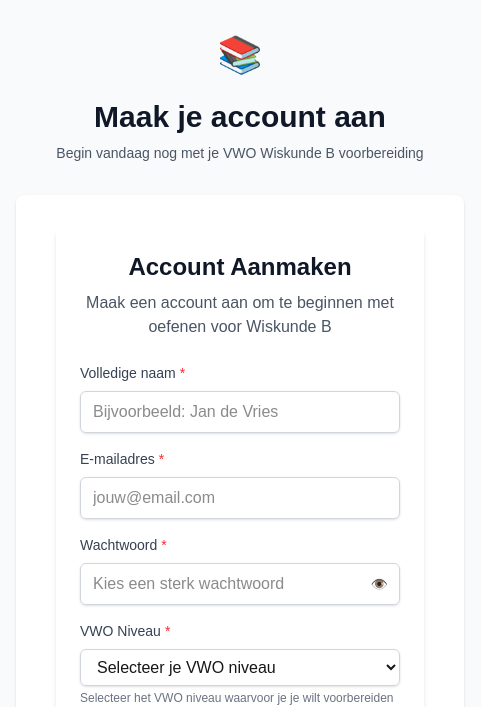
Test: RegisterPage › shows success message after successful registration
# Fill out the form
Type "Test User" into the field labelled "Volledige naam*" at [240, 412], box [80, 391, 400, 433]
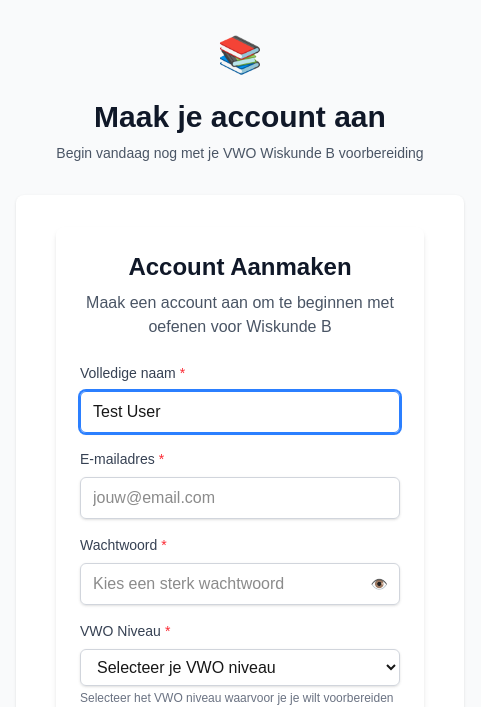
Type "test@example.com" into the field labelled "E-mailadres*" at [240, 498], box [80, 477, 400, 519]
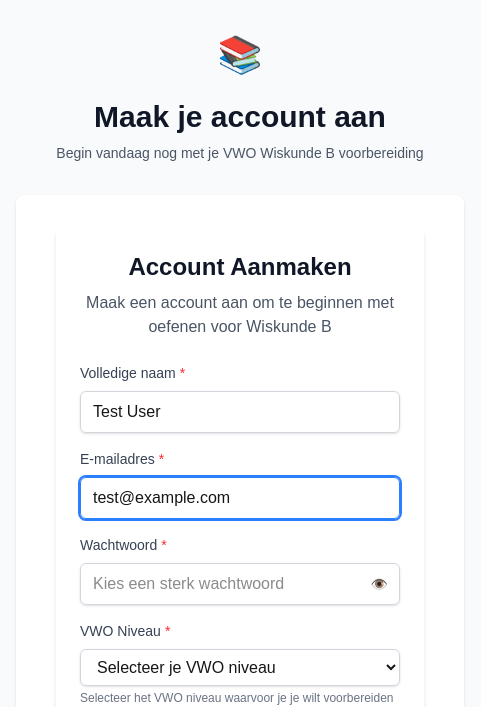
Type "TestPass123" into the password field labelled "Wachtwoord*" at [240, 584], box [80, 563, 400, 605]
(page scrolled)
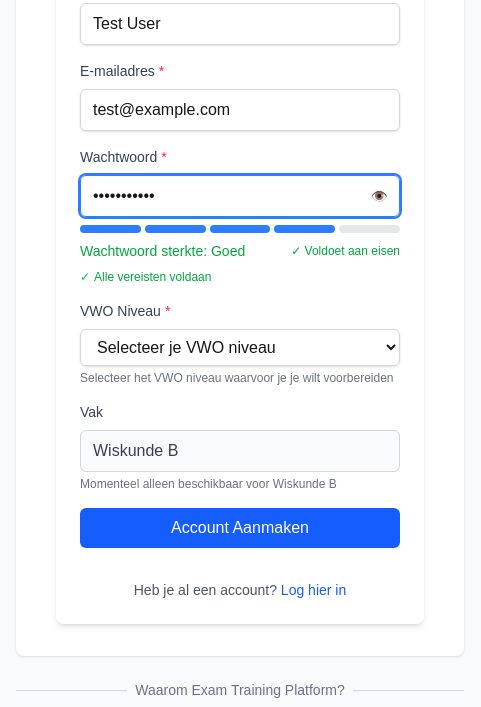
Select "VWO 6" in the dropdown labelled "VWO Niveau*" at [240, 348], box [80, 329, 400, 366]
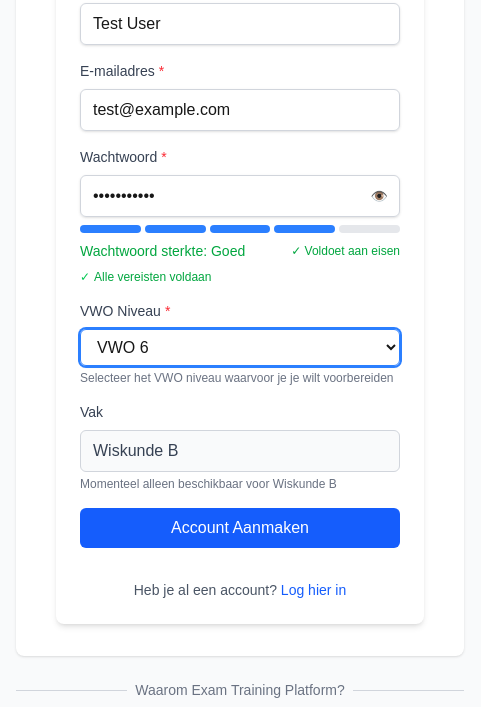
# Submit the form
Click the button "Account Aanmaken" at [240, 528], box [80, 508, 400, 548]
(page scrolled)
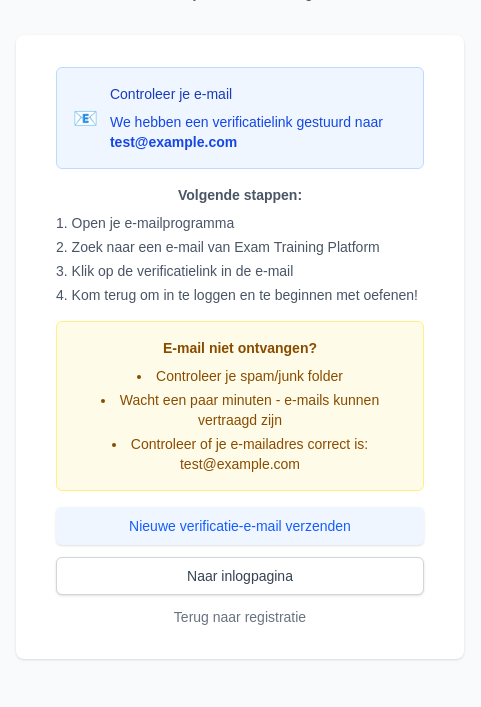
Expected: the text "test@example.com" is shown, [110, 134, 237, 150]
Expected: the heading "Controleer je e-mail" is shown, [110, 86, 232, 102]
